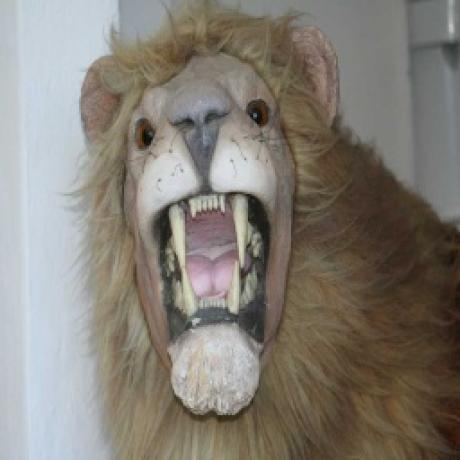Lion: (70, 3, 460, 460)
